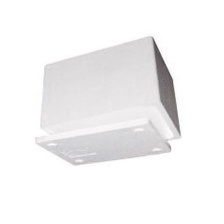foam_box: (28, 32, 186, 171)
